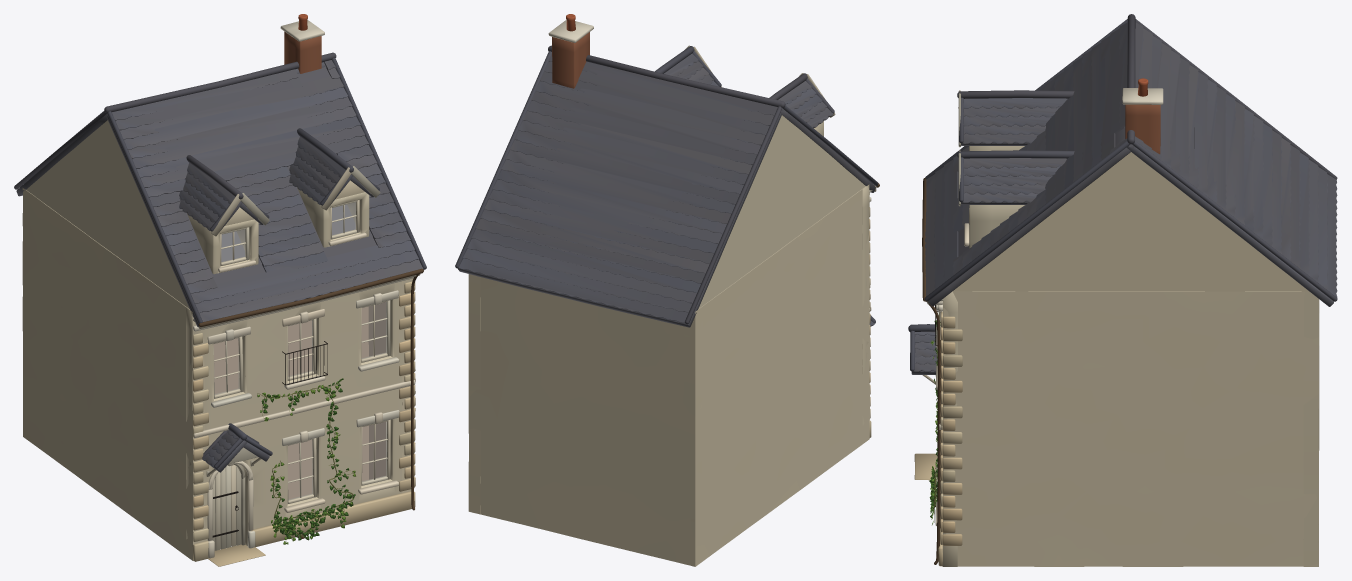
Rendered from StraightEnd_Outer4.glb.
3 renders of one model, left to right at view 1: azimuth 30°, elevation 25°; view 2: azimuth 150°, elevation 25°; view 3: azimuth 270°, elevation 25°, orthographic. The views are drawn at different scales.
Parts seen in each view (by area): view 1: Sammel Quader, Sammel Stein, Sammel Lack, Sammel Putz, Glas, Sammel Putz innen, Sammel Pflanze, Sammel Metall, Sammel Ziegel; view 2: Sammel Quader, Sammel Stein, Sammel Ziegel, Sammel Putz; view 3: Sammel Quader, Sammel Stein, Sammel Metall, Sammel Putz, Sammel Ziegel.
Boxes of the visible parts, x1,y1,x2,y2 form: Sammel Quader: (22, 120, 413, 560); Sammel Stein: (14, 52, 426, 566); Sammel Lack: (193, 166, 420, 550); Sammel Putz: (193, 14, 415, 558); Glas: (214, 202, 386, 499); Sammel Putz innen: (213, 302, 385, 499); Sammel Pflanze: (257, 378, 355, 544); Sammel Metall: (198, 268, 423, 537); Sammel Ziegel: (284, 31, 321, 73); Sammel Quader: (468, 115, 869, 566); Sammel Stein: (455, 45, 878, 437); Sammel Ziegel: (552, 32, 589, 88); Sammel Putz: (548, 14, 871, 311); Sammel Quader: (942, 146, 1319, 566); Sammel Stein: (908, 14, 1337, 566); Sammel Metall: (922, 178, 940, 564); Sammel Putz: (932, 78, 1163, 526); Sammel Ziegel: (1125, 104, 1160, 154).
Size of the model in its own units: 6.26 by 11.22 by 9.13.
